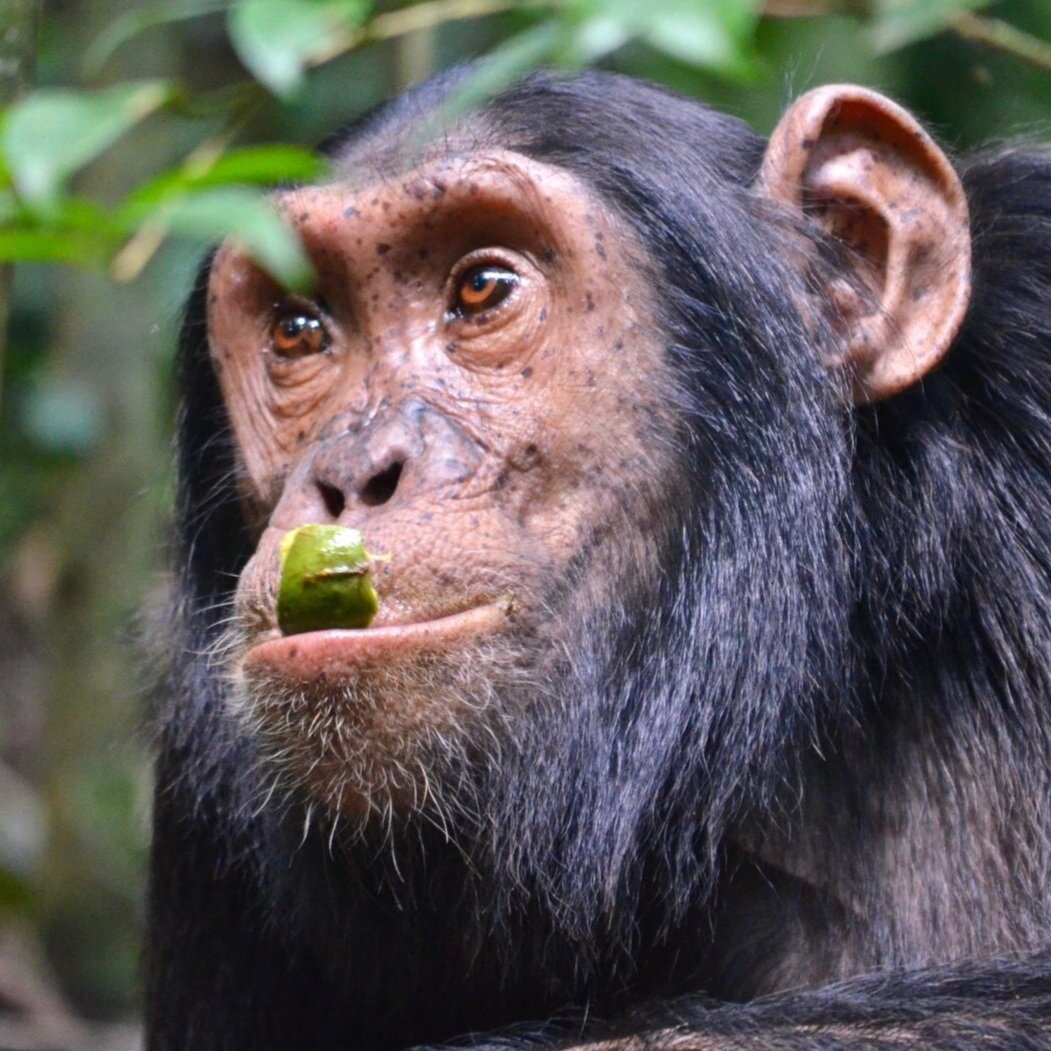Champanze: (173, 66, 978, 901)
